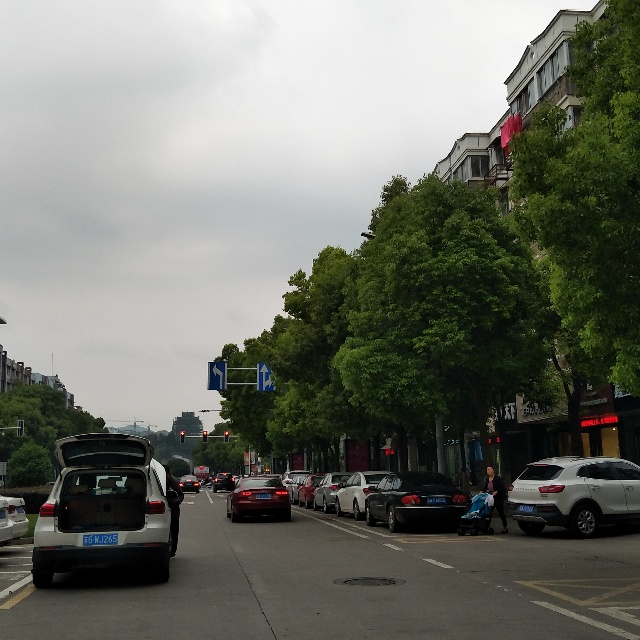left: (209, 356, 228, 391)
